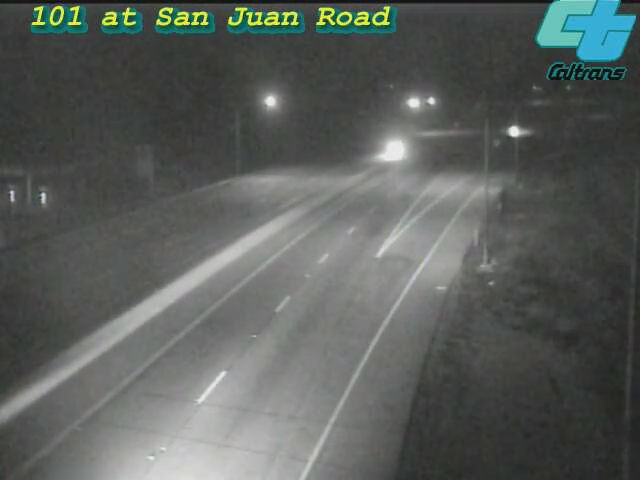vehicle: (368, 125, 418, 175), (491, 106, 541, 156)
